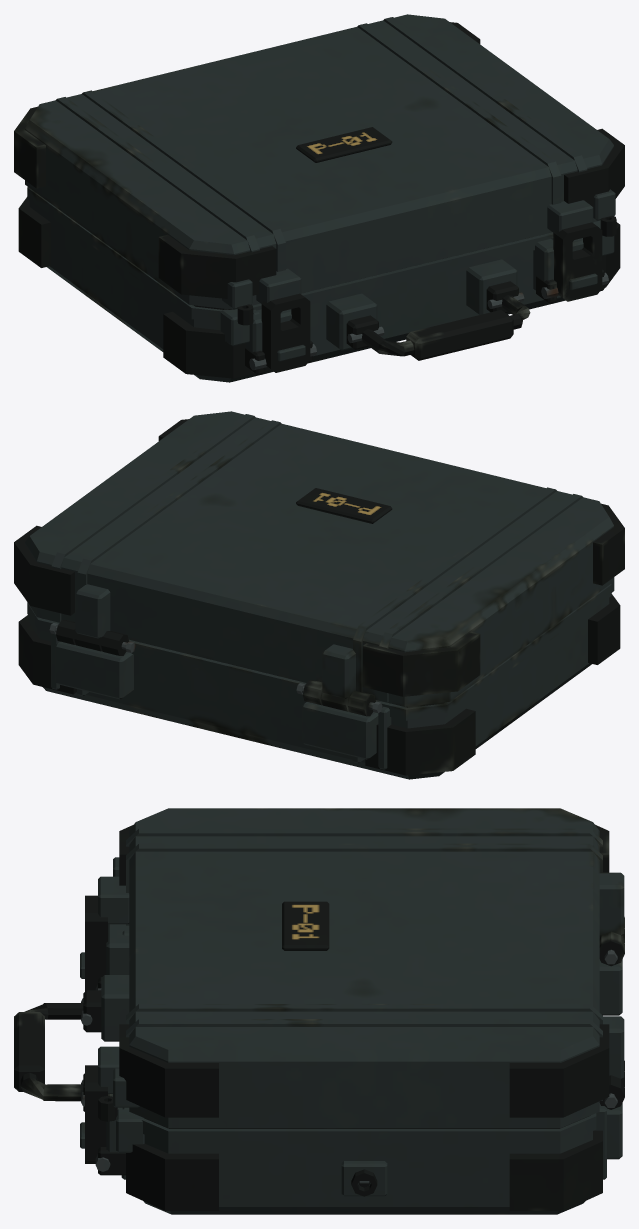
Rendered from pistol_case.glb.
3 renders of one model, top to bottom at view 1: azimuth 30°, elevation 25°; view 2: azimuth 150°, elevation 25°; view 3: azimuth 270°, elevation 25°, orthographic. The views are drawn at different scales.
Parts seen in each view (by area): view 1: PistolCaseLid, PistolCaseBody, PistolCaseHandle, PistolCaseLatch2, PistolCaseLatch1; view 2: PistolCaseLid, PistolCaseBody; view 3: PistolCaseLid, PistolCaseBody, PistolCaseHandle, PistolCaseLatch1, PistolCaseLatch2.
Part boxes in pixels (x1,y1,x2,y2): PistolCaseLid: (14, 14, 624, 317); PistolCaseBody: (18, 187, 620, 382); PistolCaseHandle: (362, 295, 530, 360); PistolCaseLatch2: (541, 222, 608, 301); PistolCaseLatch1: (249, 293, 316, 372); PistolCaseLid: (14, 411, 624, 711); PistolCaseBody: (18, 577, 620, 779); PistolCaseLid: (98, 808, 624, 1128); PistolCaseBody: (81, 917, 624, 1214); PistolCaseHandle: (14, 1003, 83, 1101); PistolCaseLatch1: (80, 895, 107, 991); PistolCaseLatch2: (80, 1065, 110, 1171).
Size of what is drawn, in the model's own units: 0.374 by 0.124 by 0.374.
1 material, 1 textured.
